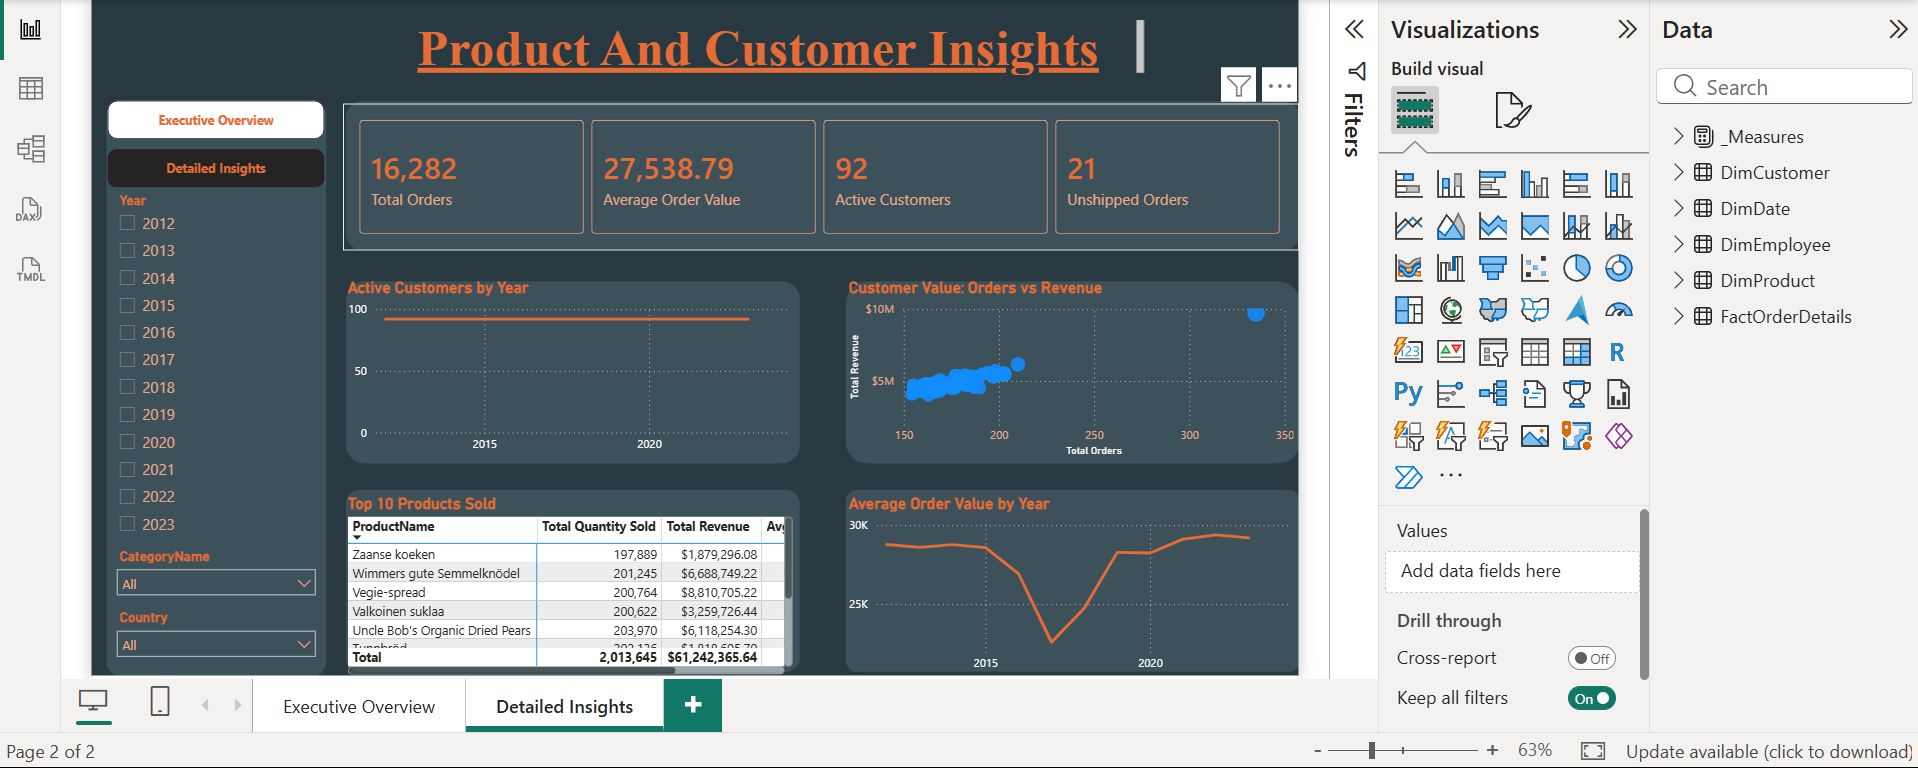

The dashboard page shown, as its layout file describes it:
{"tool":"powerbi","page":{"name":"Detailed Insights","canvas":[1280,720],"ordinal":1},"visuals":[{"type":"cardVisual","fields":{"Data":["_Measures.Total Orders","_Measures.Average Order Value","_Measures.Active Customers","_Measures.Unshipped Orders"]},"box":[267.2,109.8,1013.2,155.9],"z":0},{"type":"pivotTable","title":"Top 10 Products Sold","fields":{"Rows":["DimProduct.ProductName"],"Values":["_Measures.Total Quantity Sold","_Measures.Total Revenue","_Measures.Avg Discount %"]},"box":[267.2,523.3,482,197.2],"z":1000},{"type":"slicer","fields":{"Values":["DimDate.Year"]},"box":[17.5,198.8,230.6,377],"z":2000},{"type":"slicer","fields":{"Values":["DimProduct.CategoryName"]},"box":[17.5,575.8,230.6,79.5],"z":3000},{"type":"slicer","fields":{"Values":["DimCustomer.Country"]},"box":[17.5,641,230.6,70],"z":4000},{"type":"lineChart","fields":{"Category":["DimDate.Year"],"Y":["_Measures.Average Order Value"]},"box":[798.5,523.3,482,197.2],"z":5000},{"type":"textbox","box":[300.6,15.9,820.8,68.4],"z":6000},{"type":"lineChart","fields":{"Category":["DimDate.Year"],"Y":["_Measures.Active Customers"]},"box":[267.2,294.3,482,194.1],"z":7000},{"type":"scatterChart","title":"Customer Value: Orders vs Revenue","fields":{"X":["_Measures.Total Orders"],"Y":["_Measures.Total Revenue"],"Size":["_Measures.Total Revenue"],"Category":["DimCustomer.CompanyName"]},"box":[798.5,294.3,482,194.1],"z":8000},{"type":"pageNavigator","box":[17.5,106.6,230.6,92.3],"z":9000}]}

Visuals, with their boxes on the page's 1280x720 design canvas (x1, y1, x2, y2). These are canvas units, not pixel positions in the 1918x768 screenshot, which may show the page scaled, cropped or inside an application window:
cardVisual - _Measures.Total Orders x _Measures.Average Order Value: [267, 110, 1280, 266]
"Top 10 Products Sold" pivotTable: [267, 523, 749, 720]
slicer - DimDate.Year: [18, 199, 248, 576]
slicer - DimProduct.CategoryName: [18, 576, 248, 655]
slicer - DimCustomer.Country: [18, 641, 248, 711]
lineChart - DimDate.Year x _Measures.Average Order Value: [798, 523, 1280, 720]
textbox: [301, 16, 1121, 84]
lineChart - DimDate.Year x _Measures.Active Customers: [267, 294, 749, 488]
"Customer Value: Orders vs Revenue" scatterChart: [798, 294, 1280, 488]
pageNavigator: [18, 107, 248, 199]
